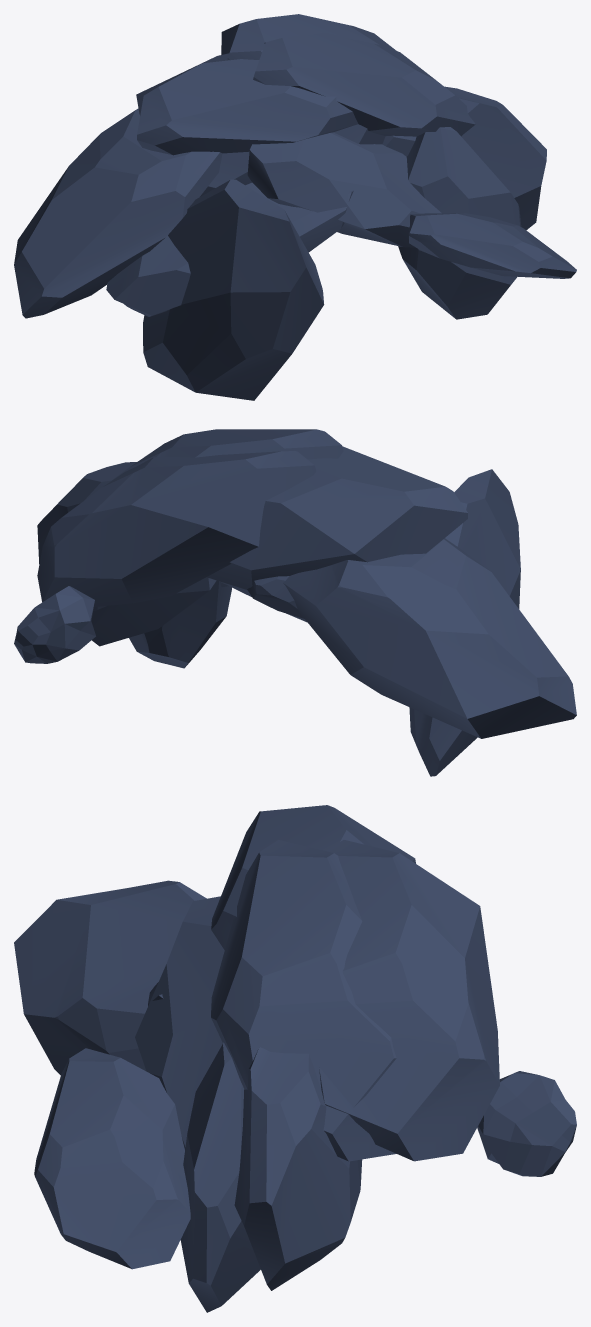
Rendered from Cave_Celing_Rock.fbx.
The picture shows the model from 3 angles, top to bottom: view 1: azimuth 30°, elevation 25°; view 2: azimuth 150°, elevation 25°; view 3: azimuth 270°, elevation 25°; orthographic projection. The views are drawn at different scales.
Parts seen in each view (by area): view 1: Stone__26_, Stone__70_, Stone__69_, Stone__68_, Stone__63_, Stone__21_, Stone__20_, Stone__64_, Stone__25_, Stone__67_, Stone__65_; view 2: Stone__70_, Stone__67_, Stone__69_, Stone__26_, Stone__64_, Stone__68_, crystal_baserock__3_, Stone__21_, Stone__71_; view 3: Stone__67_, Stone__68_, Stone__20_, Stone__26_, Stone__64_, Stone__21_, Stone__63_, crystal_baserock__3_, Stone__69_.
Part boxes in pixels (bbox=[...]): Stone__26_: bbox=[143, 179, 324, 400]; Stone__70_: bbox=[14, 108, 222, 318]; Stone__69_: bbox=[136, 53, 358, 155]; Stone__68_: bbox=[253, 33, 475, 136]; Stone__63_: bbox=[247, 132, 441, 247]; Stone__21_: bbox=[398, 127, 521, 319]; Stone__20_: bbox=[408, 213, 576, 278]; Stone__64_: bbox=[382, 86, 546, 230]; Stone__25_: bbox=[106, 182, 353, 316]; Stone__67_: bbox=[221, 14, 396, 59]; Stone__65_: bbox=[200, 124, 385, 196]; Stone__70_: bbox=[283, 538, 576, 738]; Stone__67_: bbox=[37, 451, 316, 606]; Stone__69_: bbox=[206, 446, 467, 589]; Stone__26_: bbox=[409, 469, 520, 776]; Stone__64_: bbox=[37, 462, 216, 646]; Stone__68_: bbox=[109, 429, 343, 482]; crystal_baserock__3_: bbox=[14, 586, 95, 663]; Stone__21_: bbox=[129, 580, 231, 668]; Stone__71_: bbox=[247, 576, 304, 618]; Stone__67_: bbox=[319, 840, 499, 1161]; Stone__68_: bbox=[211, 840, 396, 1161]; Stone__20_: bbox=[34, 1048, 190, 1269]; Stone__26_: bbox=[14, 880, 206, 1075]; Stone__64_: bbox=[234, 1047, 362, 1290]; Stone__21_: bbox=[180, 1042, 260, 1312]; Stone__63_: bbox=[135, 896, 224, 1149]; crystal_baserock__3_: bbox=[477, 1071, 576, 1176]; Stone__69_: bbox=[211, 805, 415, 949].
Bounding box in the file's own units: 14669 × 7830 × 10931.
